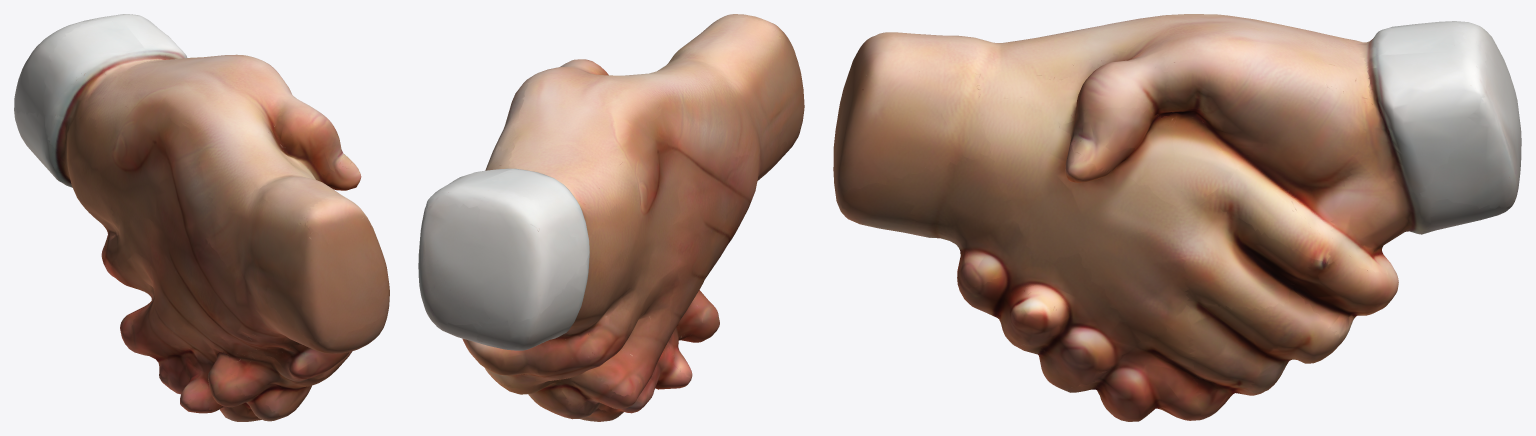
The model's file is bravero-handshake-3d.glb.
3 renders of one model, left to right at view 1: azimuth 30°, elevation 25°; view 2: azimuth 150°, elevation 25°; view 3: azimuth 270°, elevation 25°, orthographic. The views are drawn at different scales.
Bounding box in the file's own units: 0.3284 × 0.5806 × 0.9168.
1 material, 1 textured.
